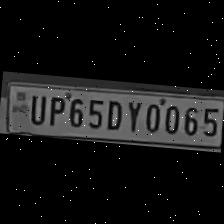0: (140, 99, 162, 136), (160, 100, 181, 136)
5: (197, 103, 222, 139), (84, 95, 106, 131)
6: (178, 102, 201, 138), (64, 94, 86, 130)
D: (102, 96, 125, 132)
P: (44, 92, 66, 128)
U: (26, 91, 46, 126)
Y: (120, 97, 142, 134)
